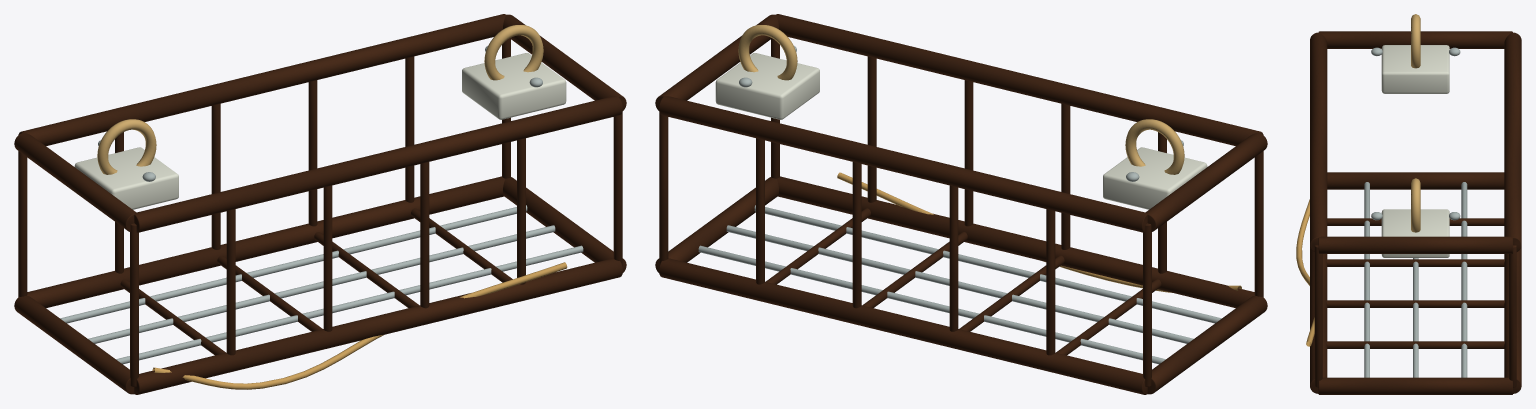
Rendered from cage.glb.
3 views of the same model, side by side, from view 1: azimuth 30°, elevation 25°; view 2: azimuth 150°, elevation 25°; view 3: azimuth 270°, elevation 25° (orthographic). The views are drawn at different scales.
Visible parts, largest first — view 1: Main cage rail.003, Main cage rail.001, Main cage rail.002, Main cage rail, Lifting ring saddle.001, Lifting ring saddle, Floor wire.001, Floor wire.002, Floor wire, Cage end.002, Cage end, Cage end.001 (+19 smaller); view 2: Main cage rail.002, Main cage rail, Main cage rail.003, Main cage rail.001, Lifting ring saddle.001, Lifting ring saddle, Floor wire.001, Floor wire, Floor wire.002, Cage end.002, Cage end, Cage end.001 (+19 smaller); view 3: Main cage rail.002, Main cage rail.003, Cage end.003, Cage end.001, Lifting ring saddle, Cage end, Cage end.002, Lifting ring saddle.001, Main cage rail, Main cage rail.001, Cage floor slat.002, Cage floor slat.003 (+10 smaller).
Boxes of the visible parts, <box> form: Main cage rail.003: <box>134,96,622,232</box>; Main cage rail.001: <box>134,258,622,394</box>; Main cage rail.002: <box>18,14,505,145</box>; Main cage rail: <box>27,176,504,308</box>; Lifting ring saddle.001: <box>462,53,566,119</box>; Lifting ring saddle: <box>74,147,178,209</box>; Floor wire.001: <box>88,225,555,343</box>; Floor wire.002: <box>116,245,583,364</box>; Floor wire: <box>60,205,527,323</box>; Cage end.002: <box>14,132,136,231</box>; Cage end: <box>14,295,134,394</box>; Cage end.001: <box>503,177,626,272</box>; Main cage rail.002: <box>659,96,1147,232</box>; Main cage rail: <box>659,258,1147,394</box>; Main cage rail.003: <box>776,14,1263,145</box>; Main cage rail.001: <box>777,176,1254,308</box>; Lifting ring saddle.001: <box>715,53,819,119</box>; Lifting ring saddle: <box>1103,147,1207,209</box>; Floor wire.001: <box>726,225,1193,343</box>; Floor wire: <box>698,245,1165,364</box>; Floor wire.002: <box>754,205,1221,323</box>; Cage end.002: <box>1145,132,1267,231</box>; Cage end: <box>1147,295,1267,394</box>; Cage end.001: <box>655,177,778,272</box>; Main cage rail.002: <box>1504,32,1521,251</box>; Main cage rail.003: <box>1310,32,1327,251</box>; Cage end.003: <box>1318,236,1512,253</box>; Cage end.001: <box>1318,377,1512,394</box>; Lifting ring saddle: <box>1381,45,1449,93</box>; Cage end: <box>1327,172,1504,189</box>; Cage end.002: <box>1318,31,1512,48</box>; Lifting ring saddle.001: <box>1381,209,1449,257</box>; Main cage rail: <box>1504,246,1521,393</box>; Main cage rail.001: <box>1310,247,1327,393</box>; Cage floor slat.002: <box>1326,259,1504,266</box>; Cage floor slat.003: <box>1326,300,1504,307</box>.
Bounding box in the file's own units: 0.518 × 0.2341 × 0.232.
5 materials, 1 textured.
